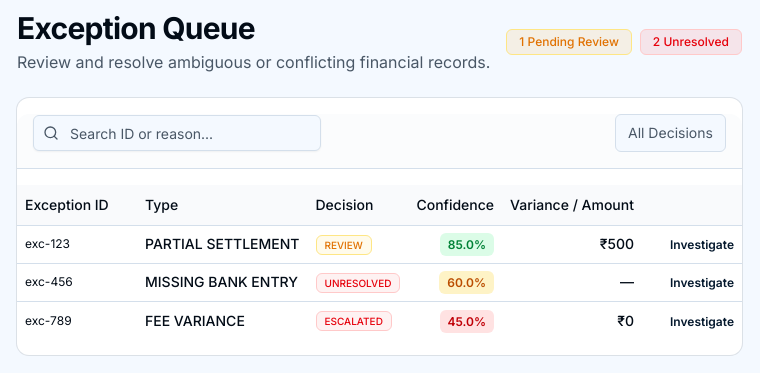
Scenario: Exceptions Page › filters exceptions by decision
Expected: the text "exc-123" is shown, [17,225,137,263]
Select "Unresolved" in the dropdown: (670, 133) [615,114,726,152]
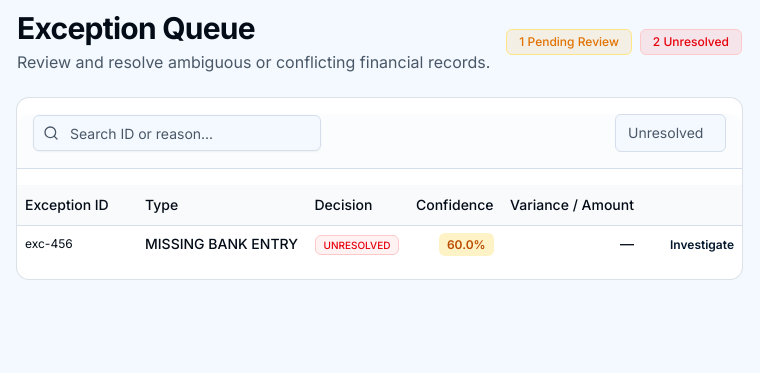
Expected: the text "exc-456" is shown, [17,225,137,263]
Expected: the text "exc-123" is gone
Expected: the text "exc-789" is gone
